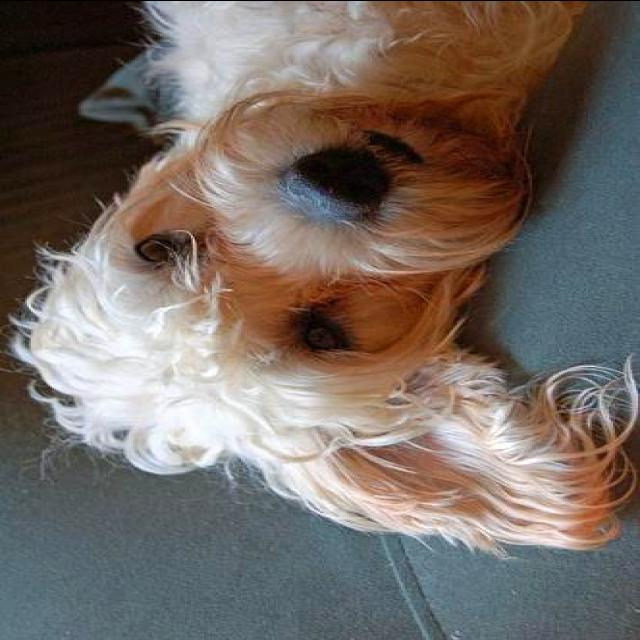dandie_dinmont: (0, 1, 638, 562)
